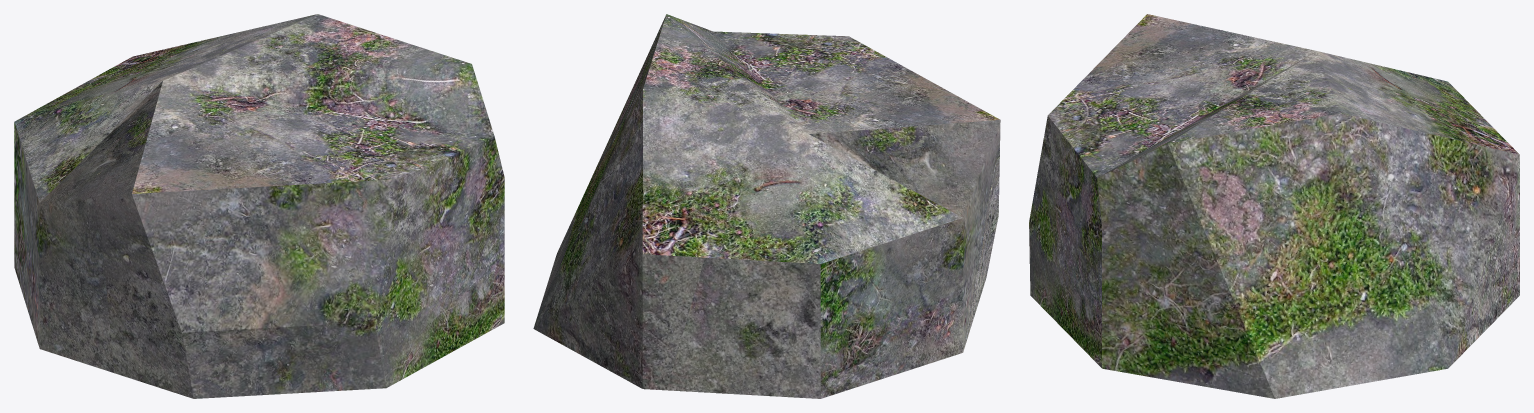
File: Sten_2.fbx
3 renders of one model, left to right at view 1: azimuth 30°, elevation 25°; view 2: azimuth 150°, elevation 25°; view 3: azimuth 270°, elevation 25°, orthographic. The views are drawn at different scales.
Parts seen in each view (by area): view 1: sten 2; view 2: sten 2; view 3: sten 2.
Boxes of the visible parts, x1,y1,x2,y2 form: sten 2: [14, 14, 504, 398]; sten 2: [533, 14, 1000, 398]; sten 2: [1029, 14, 1519, 398].
Bounding box in the file's own units: 30.47 × 15.5 × 30.55.
